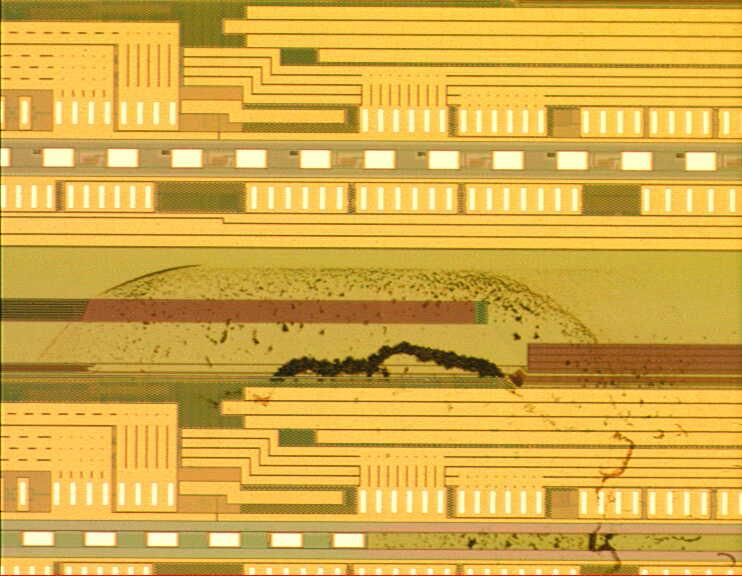PO CONTAMINATION: (34, 259, 742, 575)
